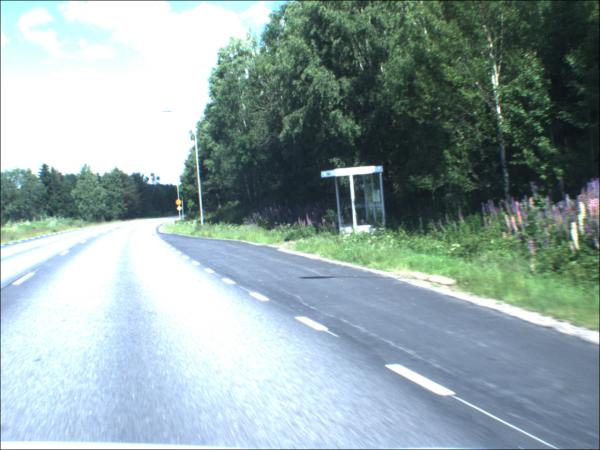80_SIGN: (177, 200, 183, 207)
PRIORITY_ROAD: (178, 207, 184, 213)
